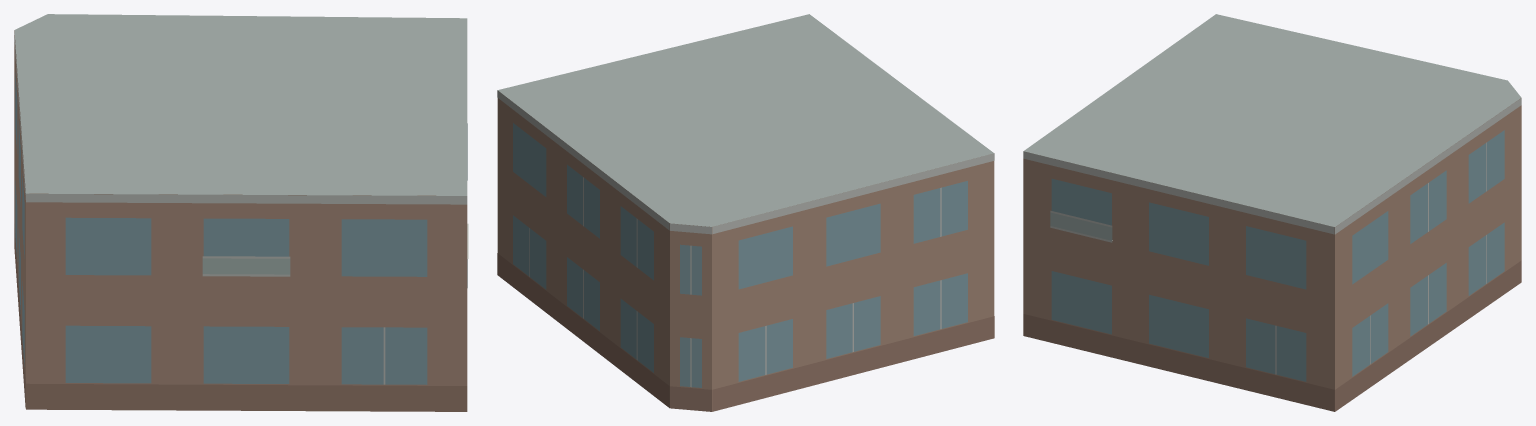
File: survey-upis-32607909.glb
3 views of the same model, side by side, from view 1: azimuth 30°, elevation 25°; view 2: azimuth 150°, elevation 25°; view 3: azimuth 270°, elevation 25° (orthographic). The views are drawn at different scales.
Parts seen in each view (by area): view 1: survey-upis-32607909.tmp; view 2: survey-upis-32607909.tmp; view 3: survey-upis-32607909.tmp.
Part boxes in pixels (left/top/right/bottom): survey-upis-32607909.tmp: left=14, top=14, right=468, bottom=411; survey-upis-32607909.tmp: left=497, top=14, right=994, bottom=411; survey-upis-32607909.tmp: left=1023, top=14, right=1521, bottom=411.
Size of the model in its own units: 15.11 by 6.1 by 14.93.
